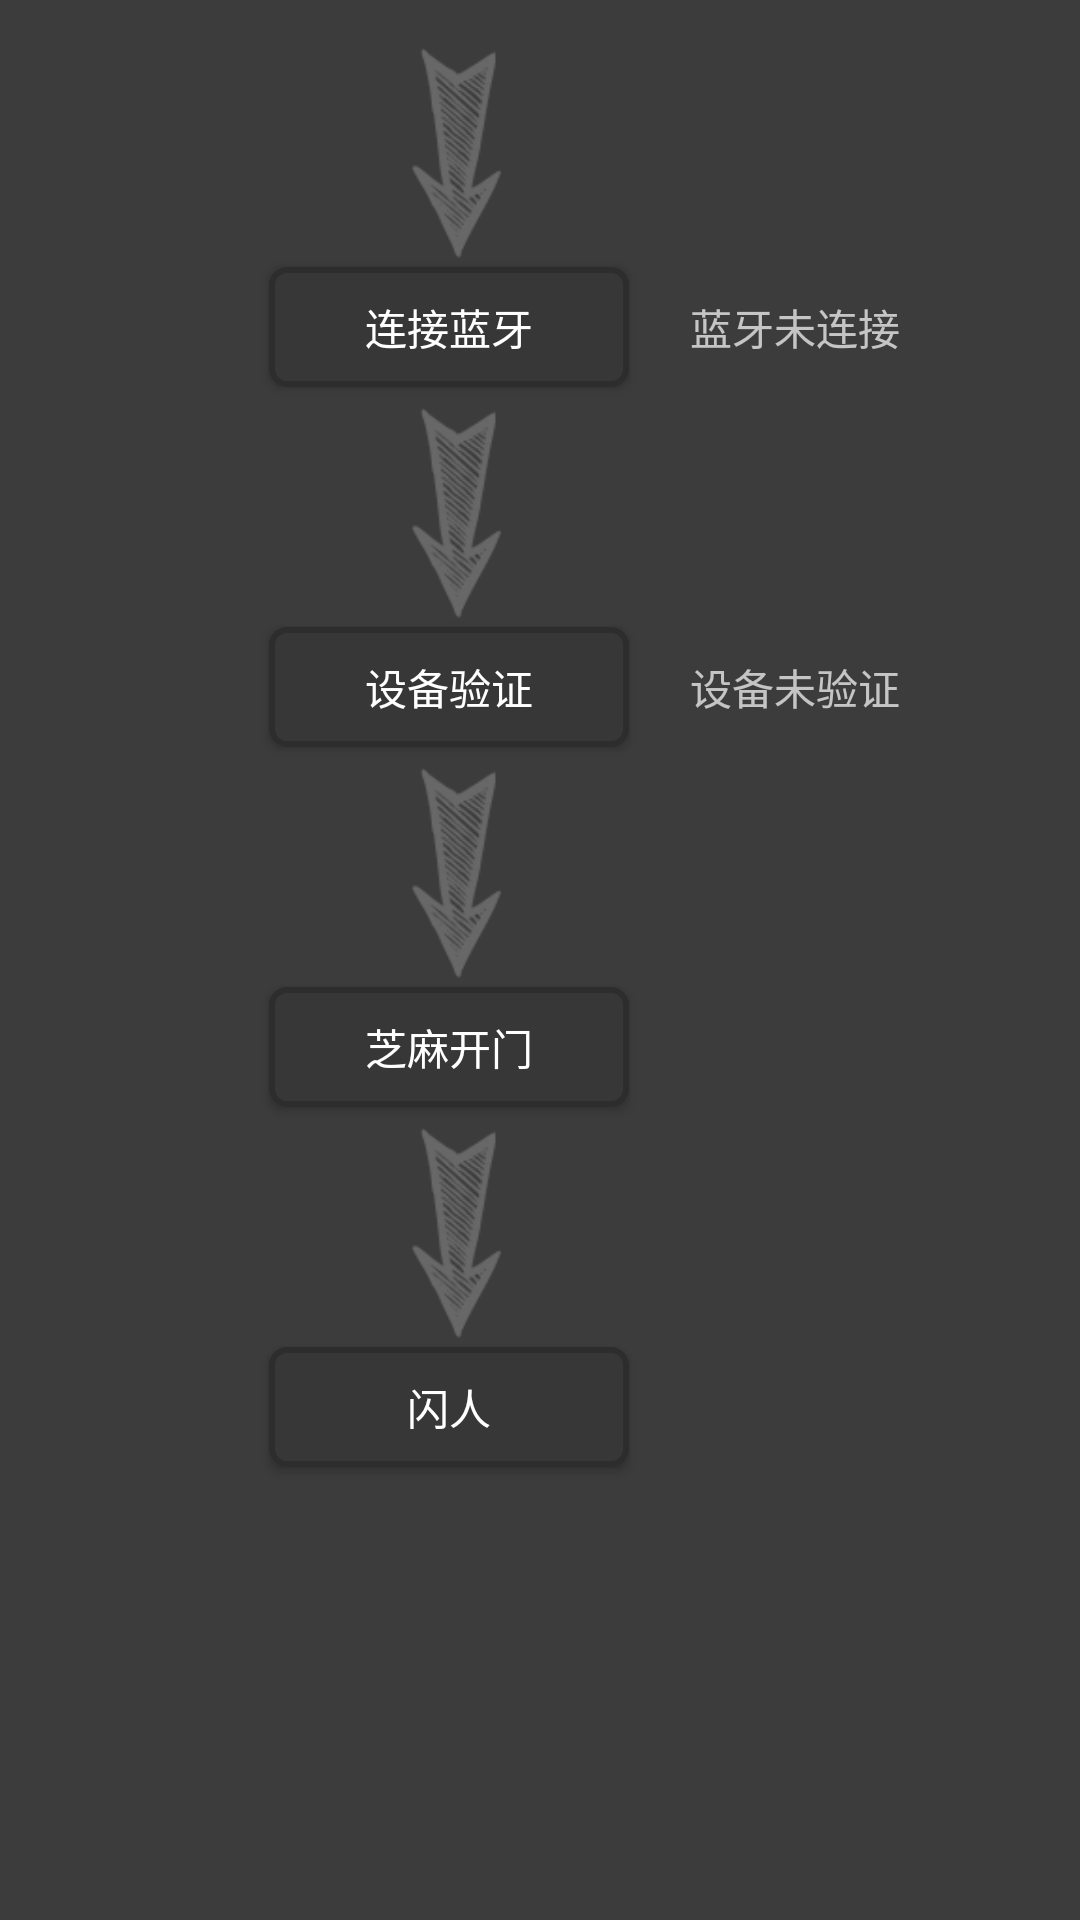

Icon click points for this 1080*1920 phone screenshot, format point (x, y):
arrow: point (457, 153), point (457, 513), point (457, 873), point (457, 1233)
